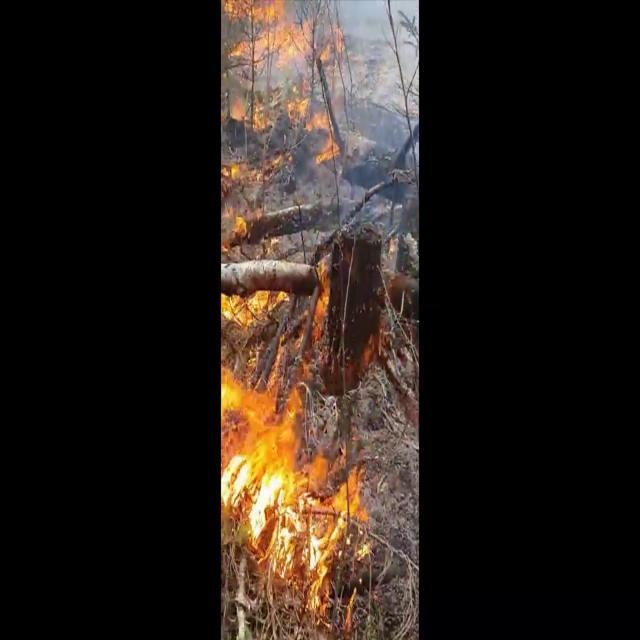Fire: (222, 253, 370, 611), (222, 2, 352, 165)
